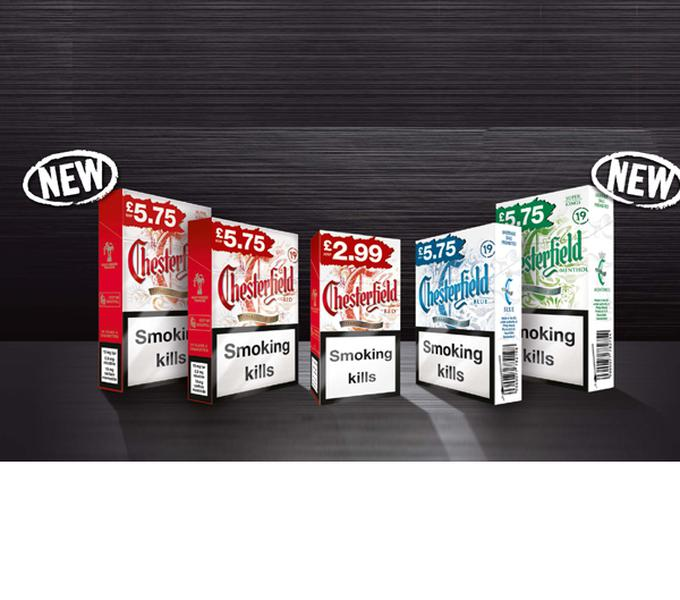chesterfield_blue: (415, 236, 495, 386)
chesterfield_red: (210, 227, 297, 382), (320, 234, 400, 394), (123, 204, 187, 381)
